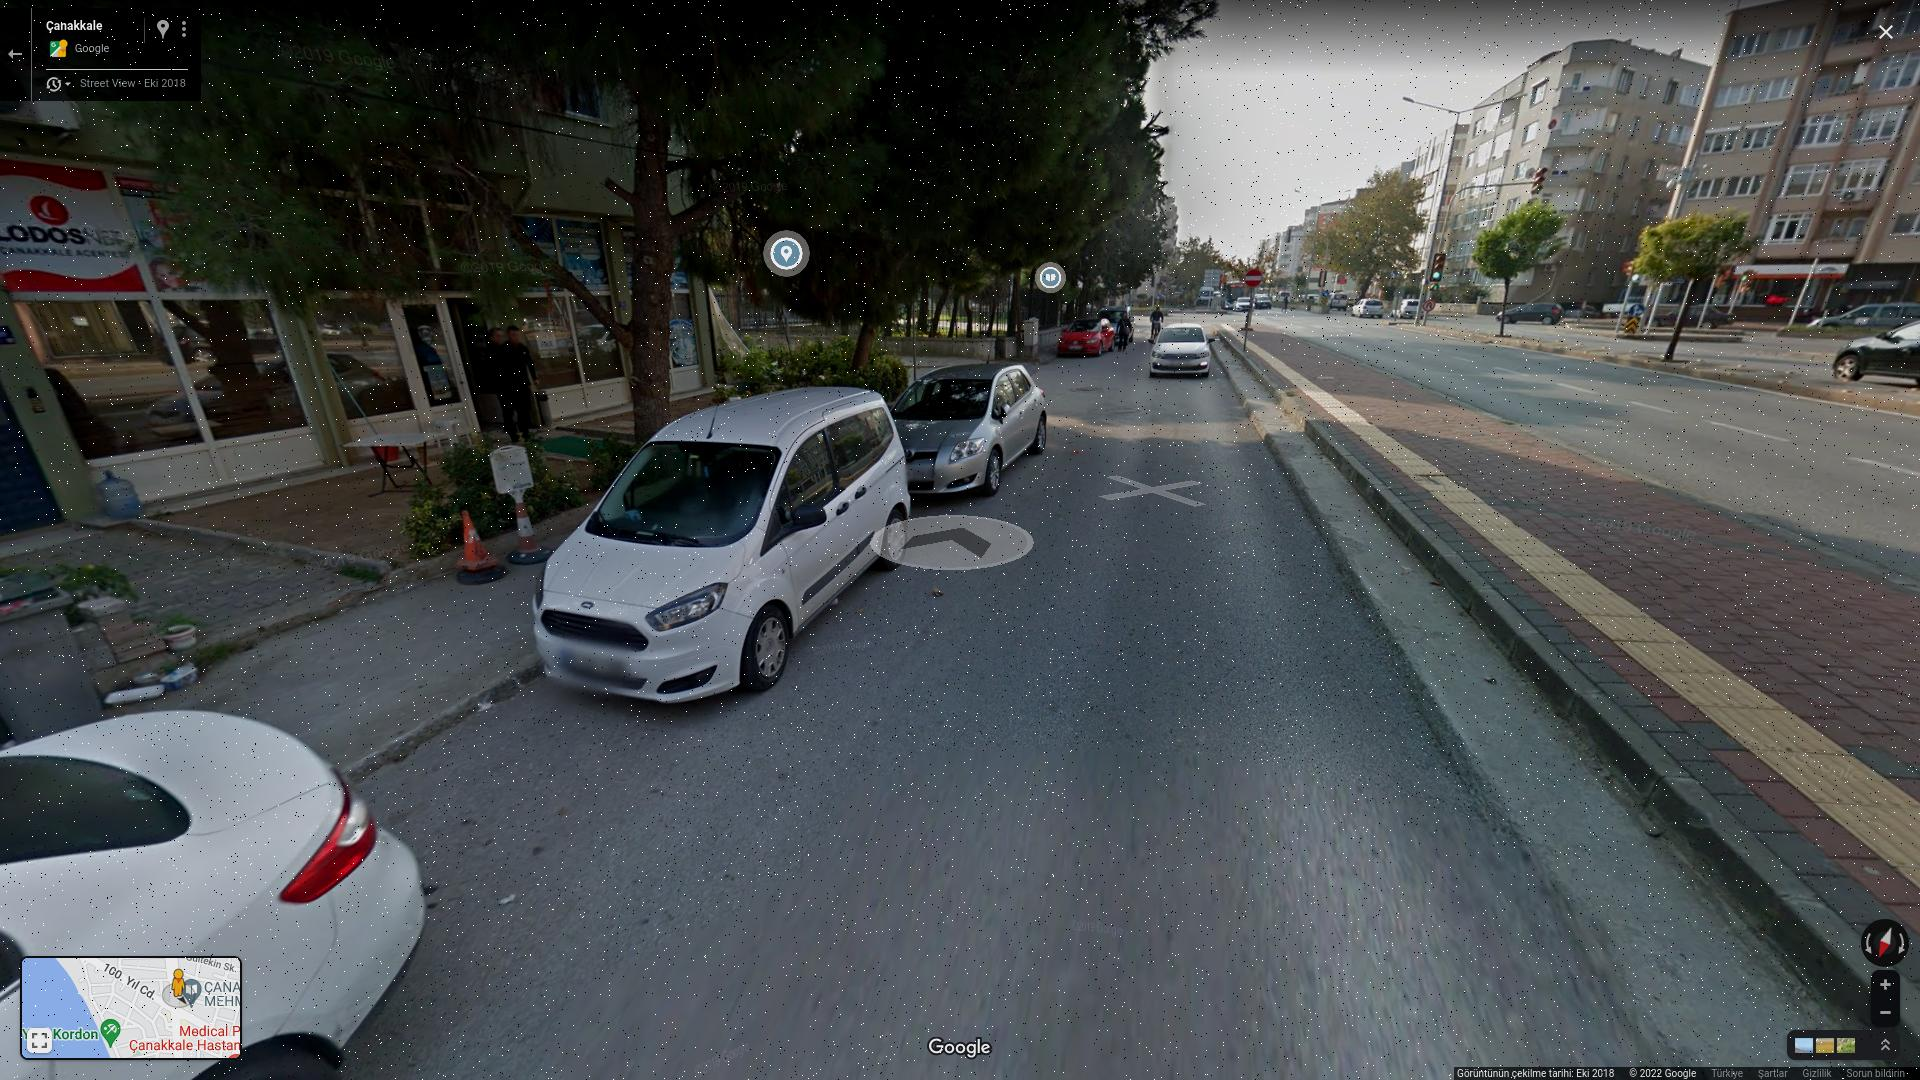greenlight: (1431, 253, 1444, 282)
